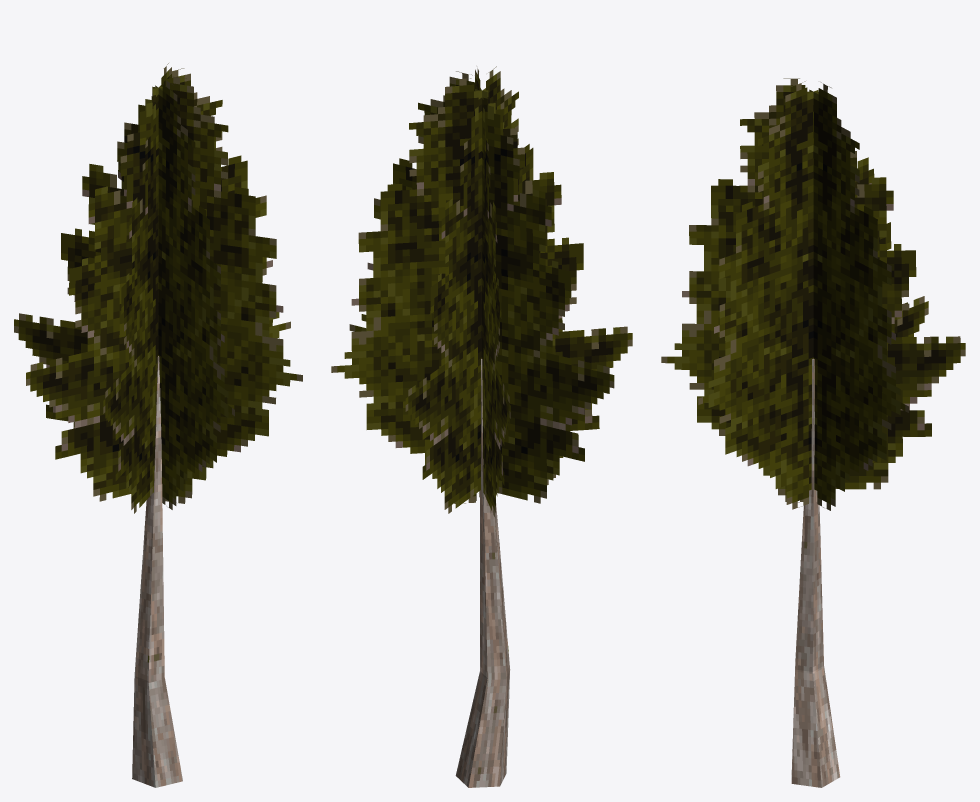
Rendered from Green Tree 3.glb.
3 views of the same model, side by side, from view 1: azimuth 30°, elevation 25°; view 2: azimuth 150°, elevation 25°; view 3: azimuth 270°, elevation 25° (orthographic).
Visible parts, largest first — view 1: Plane.001, Trunk.001; view 2: Plane.001, Trunk.001; view 3: Plane.001, Trunk.001.
Part boxes in pixels (bbox=[...]): Plane.001: bbox=[14, 63, 302, 513]; Trunk.001: bbox=[132, 356, 182, 787]; Plane.001: bbox=[331, 66, 632, 516]; Trunk.001: bbox=[455, 359, 510, 787]; Plane.001: bbox=[661, 78, 965, 510]; Trunk.001: bbox=[791, 358, 840, 787].
Bounding box in the file's own units: 10.15 × 25.7 × 10.15.
1 material, 1 textured.
